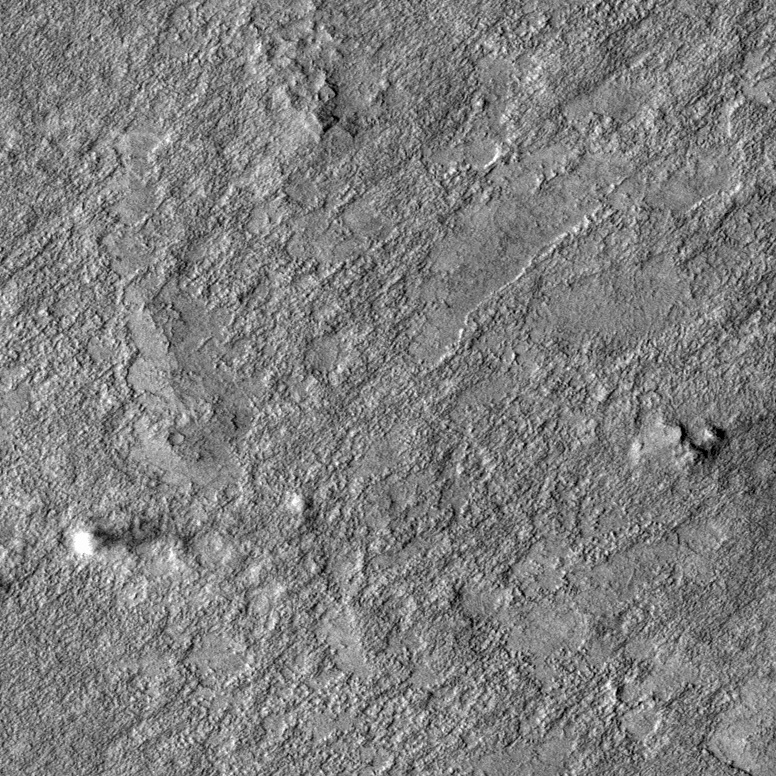dust_devil: (71, 514, 199, 559)
